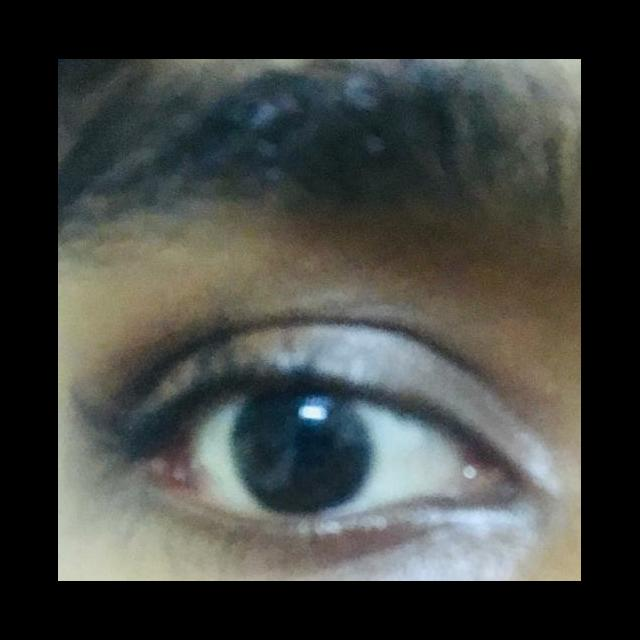eye: (181, 388, 465, 522)
iris: (236, 393, 372, 513)
